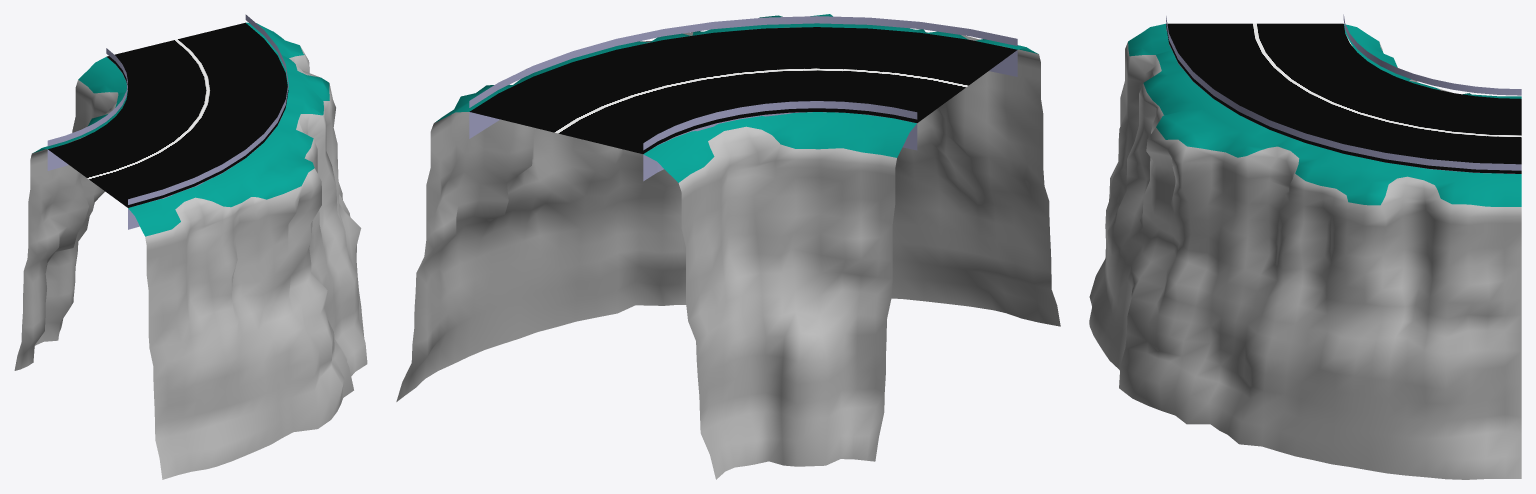
3 renders of one model, left to right at view 1: azimuth 30°, elevation 25°; view 2: azimuth 150°, elevation 25°; view 3: azimuth 270°, elevation 25°, orthographic. The views are drawn at different scales.
Parts seen in each view (by area): view 1: cliff_2, Mesh, cliff_1, guardRail_2, guardRail_1, pylon; view 2: cliff_2, cliff_1, Mesh, guardRail_2, guardRail_1, pylon; view 3: cliff_2, Mesh, guardRail_2, guardRail_1, cliff_1.
Part boxes in pixels (x1,y1,x2,y2): cliff_2: [128, 22, 367, 479]; Mesh: [48, 22, 288, 207]; cliff_1: [14, 56, 127, 370]; guardRail_2: [128, 14, 288, 204]; guardRail_1: [47, 48, 127, 146]; pylon: [47, 60, 287, 229]; cliff_2: [396, 14, 1060, 401]; cliff_1: [643, 112, 916, 479]; Mesh: [469, 27, 1017, 153]; guardRail_2: [469, 16, 1017, 107]; guardRail_1: [643, 101, 917, 150]; pylon: [469, 50, 1017, 181]; cliff_2: [1089, 23, 1521, 479]; Mesh: [1166, 23, 1521, 173]; guardRail_2: [1166, 16, 1521, 170]; guardRail_1: [1343, 14, 1521, 95]; cliff_1: [1344, 24, 1521, 98].
Size of the model in its own units: 24.35 by 17.56 by 24.31.
